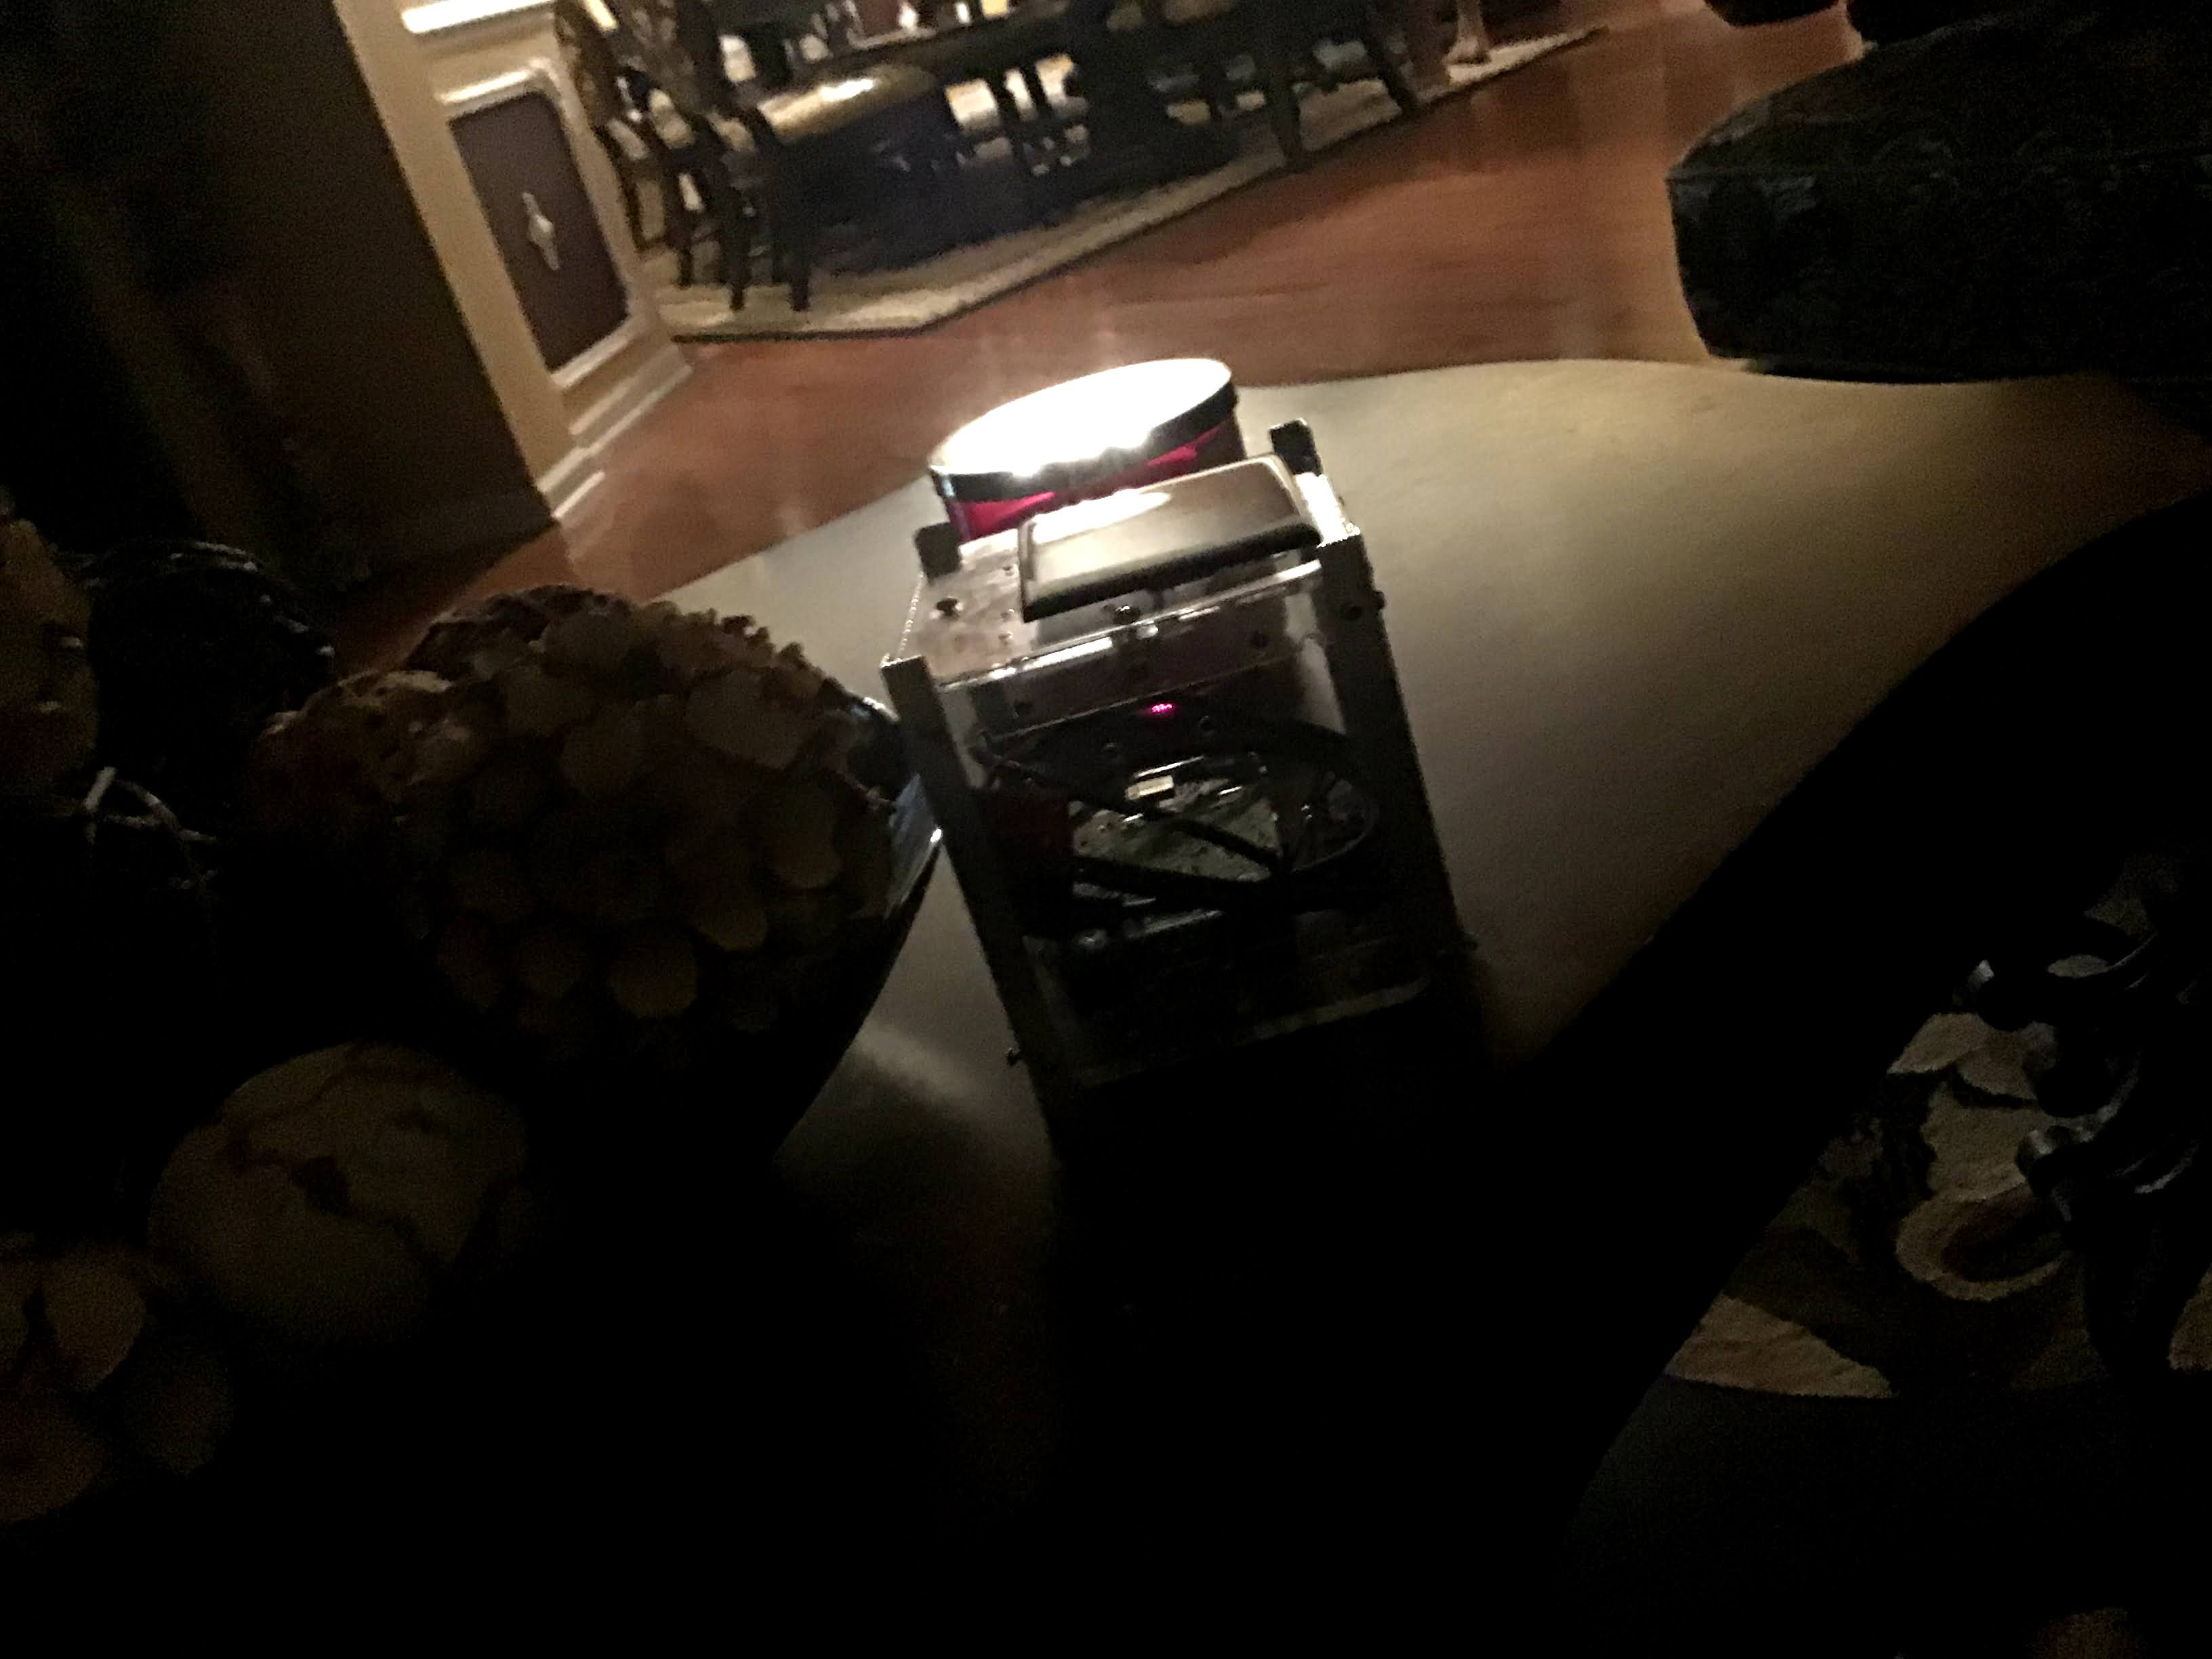Space-debris-cubesat: (869, 423, 1487, 1122)
